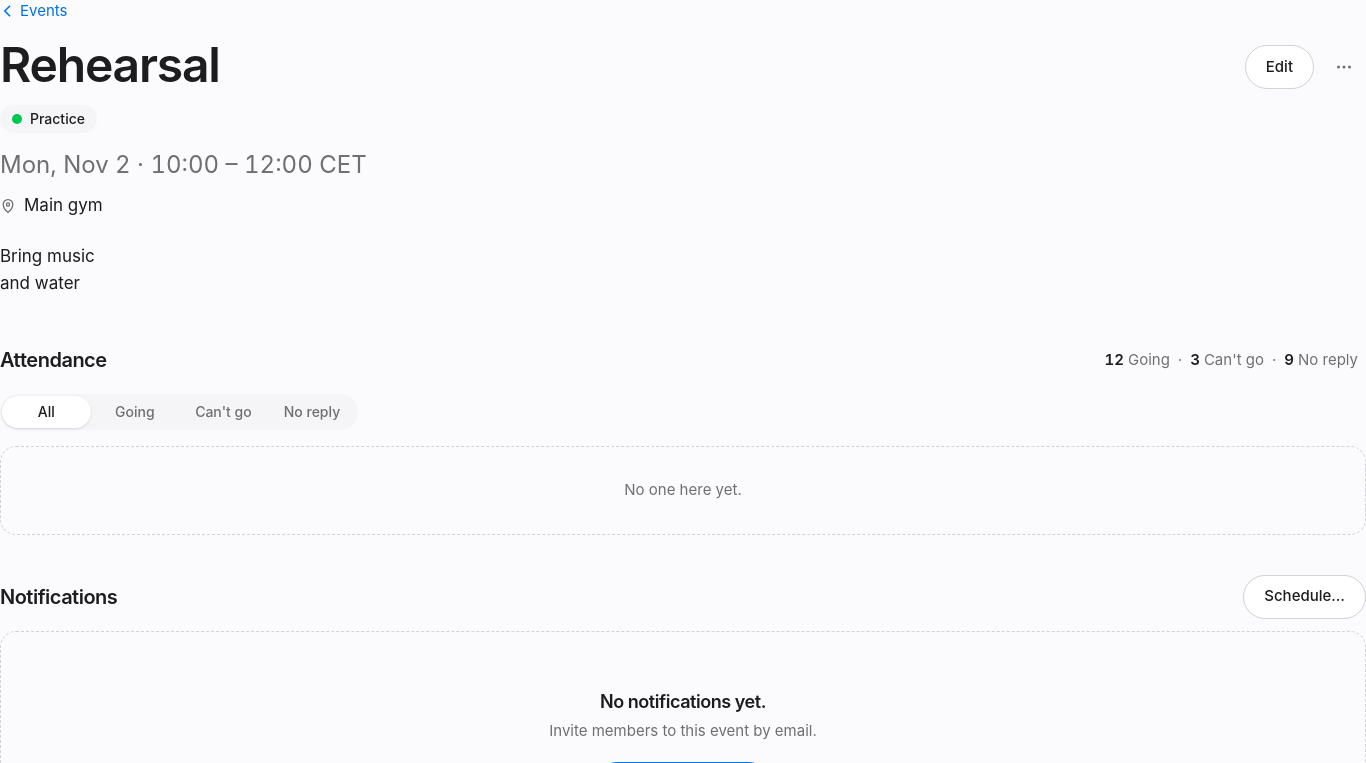
it: EventDetailView › asks for confirmation before deleting, then goes back to the list and toasts
The image size is (1366, 763).
Click the button named "More actions" at (1344, 67), box [1322,45,1365,89]
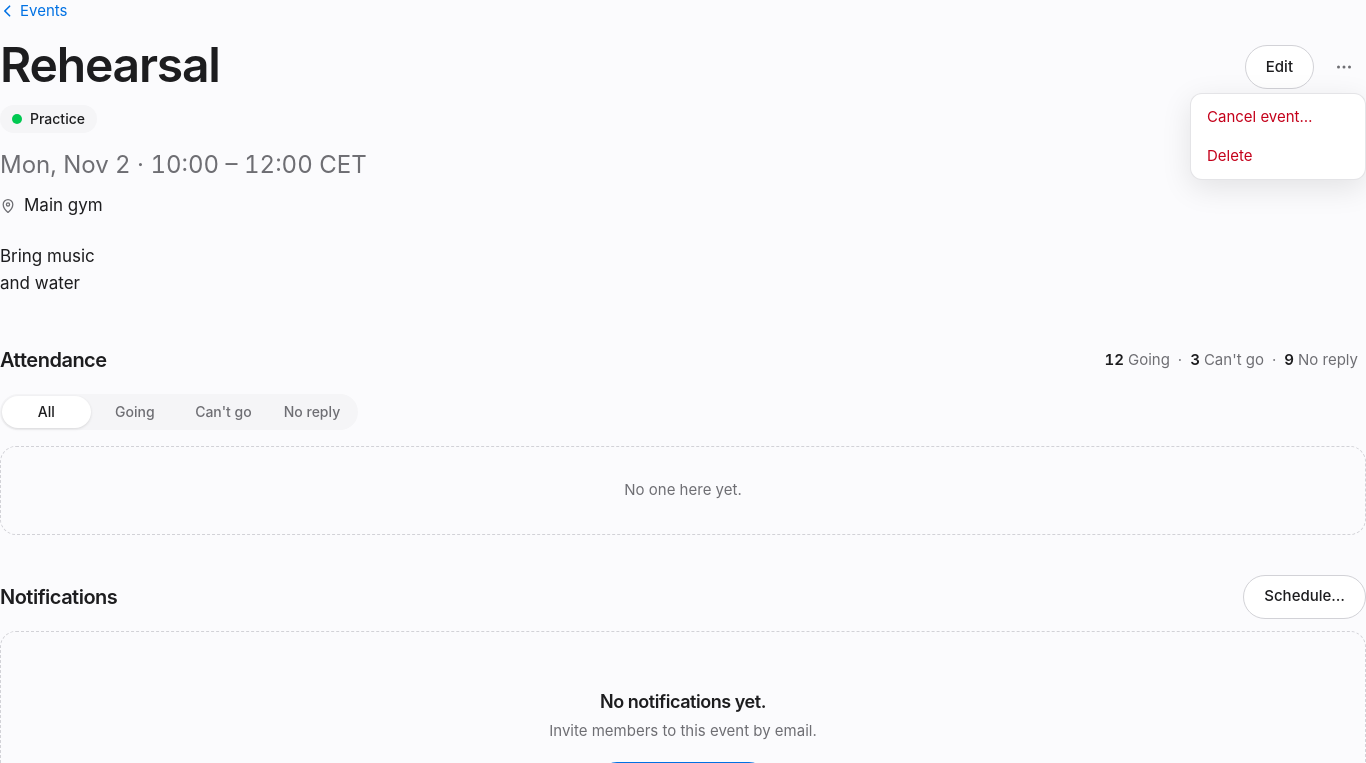
Click the menu item "Delete" at (1278, 156), box [1195,137,1361,175]
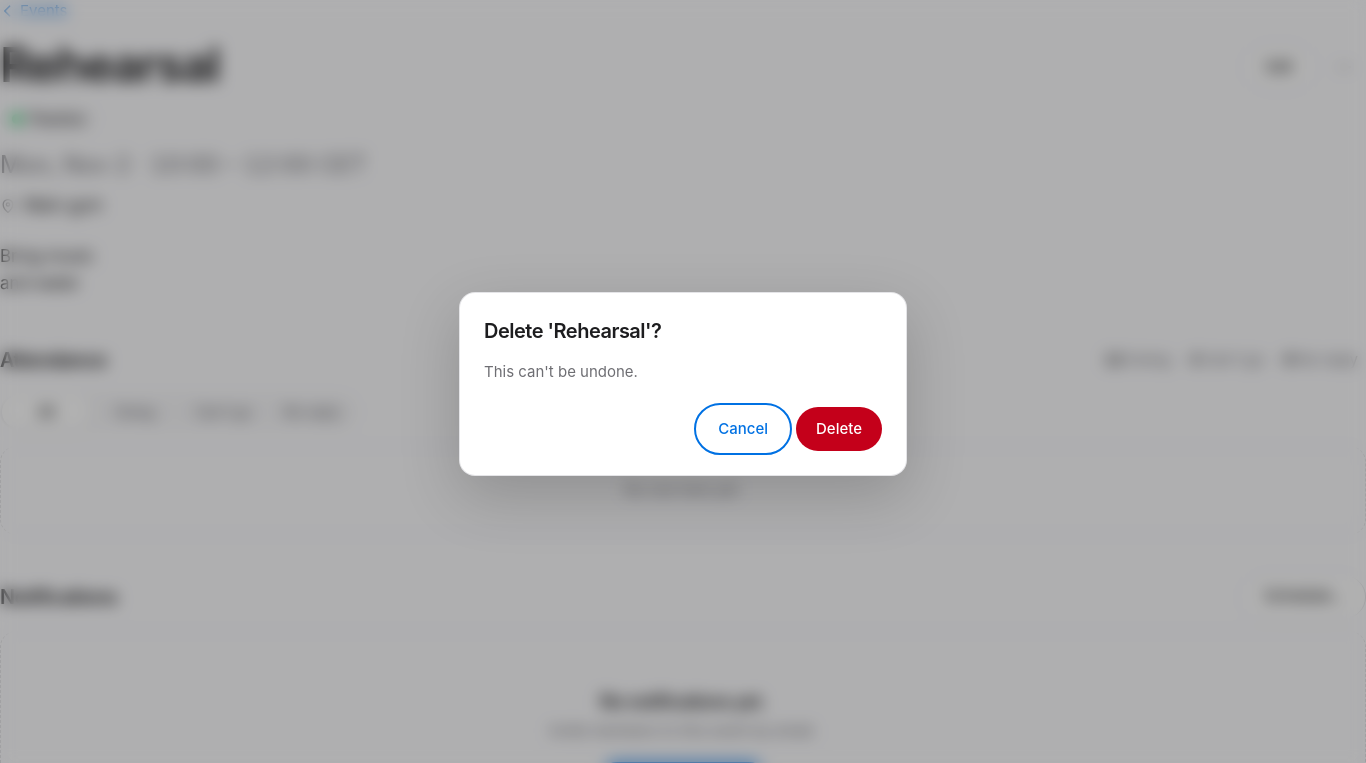
Result: the heading "Delete 'Rehearsal'?" is shown at [484,319,662,343]
Result: the dialog shows "This can't be undone." at [484,362,638,381]
Click the button "Delete" at (839, 429), box [796,407,882,451]
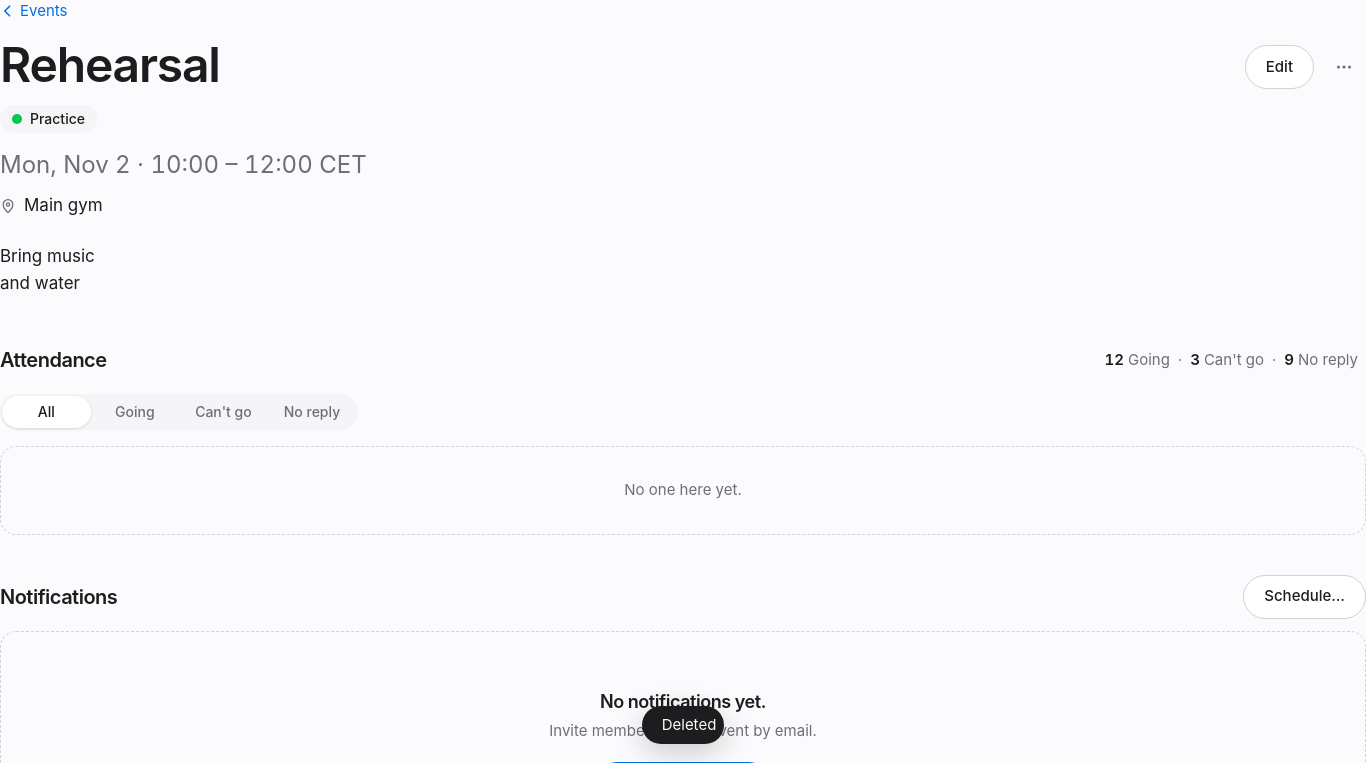
Result: the message "Deleted" is shown at [642,706,724,744]
